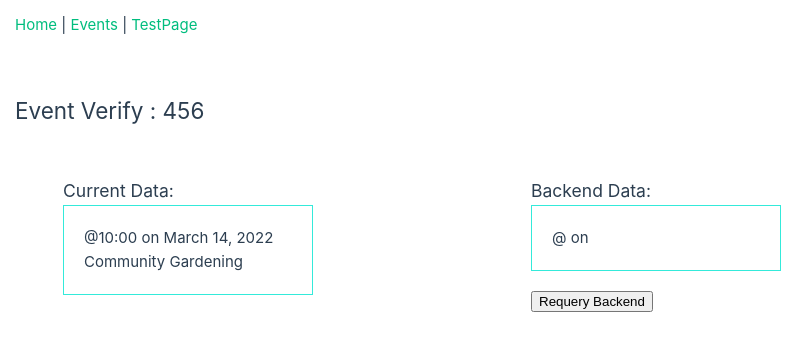
Test: EventVerify page ... /event_verify/:id › should update backend card after requery click - with API intercepted data
Click the button with test id "button" at (592, 302), box [531,291,653,312]
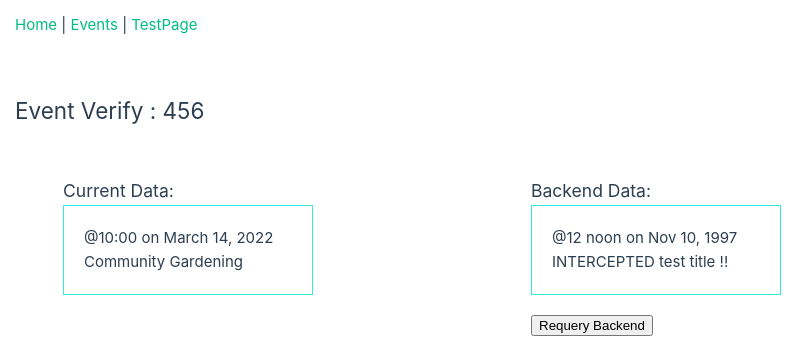
Expected: the element with test id "card-backend" is shown, [531,205,781,295]
Now the heading "INTERCEPTED test title !!" is shown, box [552,252,728,271]
